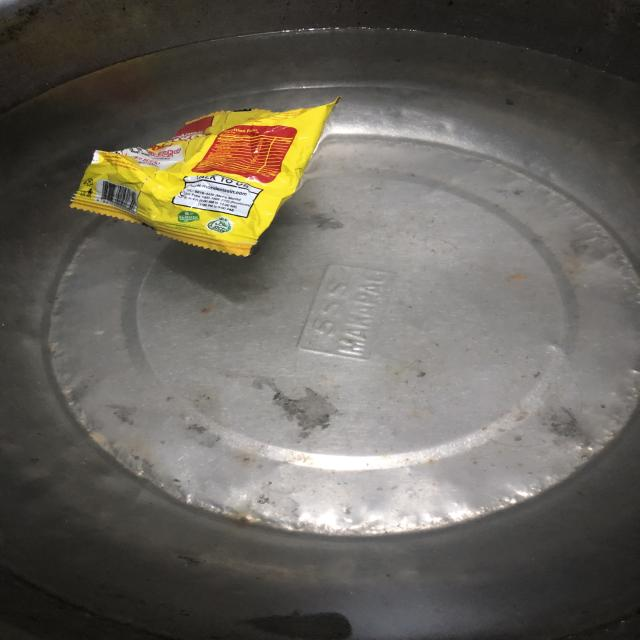Plastic Wrapper: (38, 73, 379, 273)
